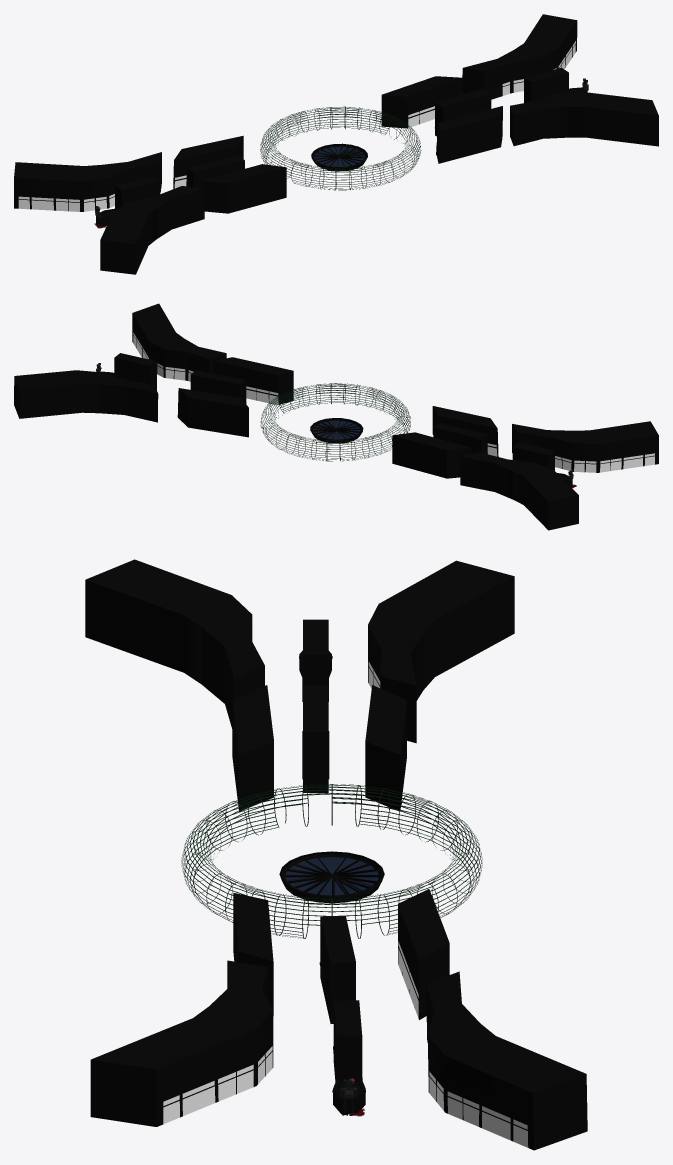
File: ASM - PBR Metallic Roughness.fbx
The picture shows the model from 3 angles, top to bottom: view 1: azimuth 30°, elevation 25°; view 2: azimuth 150°, elevation 25°; view 3: azimuth 270°, elevation 25°; orthographic projection. The views are drawn at different scales.
Parts seen in each view (by area): view 1: pCube56, pCube41 (×2), pCube38, pTorus1, pCube57, pCube42, pCube58, pCube55, pCylinder1 (×2), pCube43, pCube59, pCube48 (+2 smaller); view 2: pCube57, pCube41, pCube38 (×2), pTorus1, pCube56, pCube55, pCube43, pCube58, pCylinder1 (×2), pCube42, pCube59, pCube48 (+2 smaller); view 3: pCube56 (×2), pCube38, pCube57 (×2), pCube41, pTorus1, pCylinder1 (×2), pCube42, pCube43, pCube55, pCube59, pCube45, pCube58 (+2 smaller).
Part boxes in pixels (x1,y1,x2,y2): pCube56: (510,91,658,146); pCube41 (×2): (14,152,161,211); pCube38: (100,186,204,274); pTorus1: (260,106,421,190); pCube57: (462,14,577,98); pCube42: (202,164,286,213); pCube58: (436,106,502,163); pCube55: (381,76,462,128); pCylinder1 (×2): (311,143,367,171); pCube43: (173,135,243,188); pCube59: (434,88,491,136); pCube48: (524,67,568,102); pCube57: (14,370,158,422); pCube41: (460,452,578,530); pCube38 (×2): (512,421,658,472); pTorus1: (260,383,410,461); pCube56: (132,303,226,380); pCube55: (177,388,248,437); pCube43: (392,432,471,478); pCube58: (213,357,293,404); pCylinder1 (×2): (310,418,363,443); pCube42: (432,406,498,456); pCube59: (190,370,246,403); pCube48: (114,353,156,389); pCube56 (×2): (90,960,273,1126); pCube38: (85,559,264,728); pCube57 (×2): (426,971,587,1150); pCube41: (368,560,514,743); pTorus1: (181,784,482,938); pCylinder1 (×2): (279,851,384,903); pCube42: (232,685,273,811); pCube43: (365,685,406,811); pCube55: (398,889,449,1019); pCube59: (319,915,355,1023); pCube45: (302,685,329,792); pCube58: (233,893,273,1015).
Bounding box in the file's own units: 784 × 41.8 × 313.
